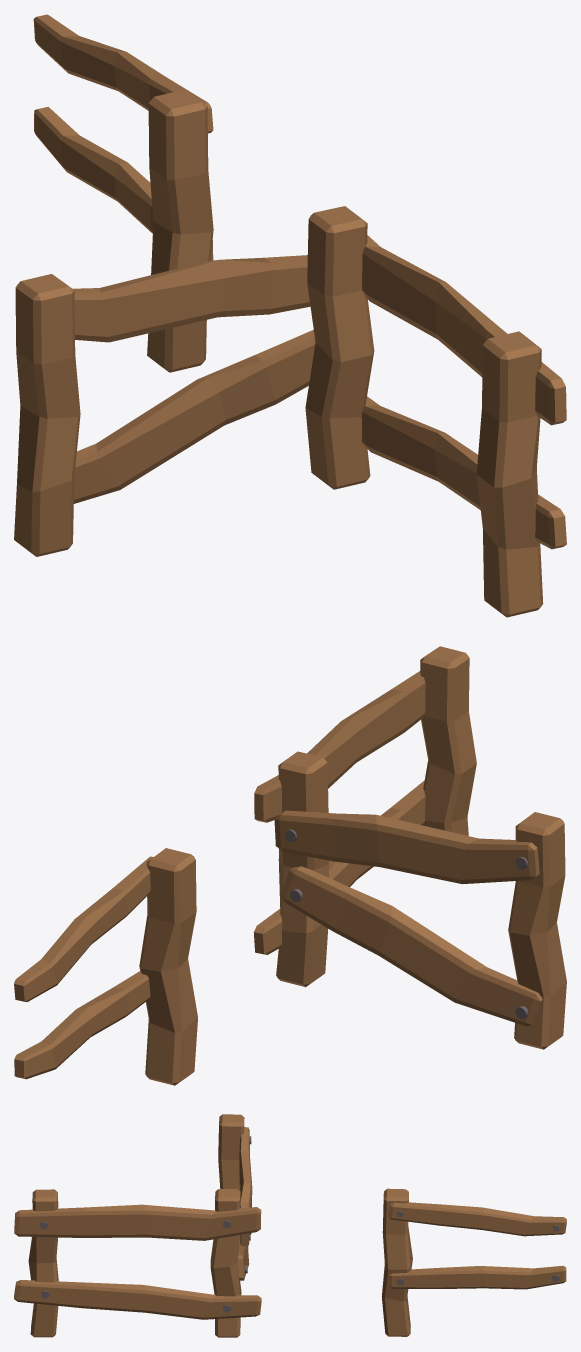
File: FenceGate.fbx
3 renders of one model, top to bottom at view 1: azimuth 30°, elevation 25°; view 2: azimuth 150°, elevation 25°; view 3: azimuth 270°, elevation 25°, orthographic. The views are drawn at different scales.
Visible parts, largest first — view 1: Cylinder.007; view 2: Cylinder.007; view 3: Cylinder.007.
Part boxes in pixels (x1,y1,x2,y2): Cylinder.007: [14, 14, 566, 617]; Cylinder.007: [14, 646, 566, 1085]; Cylinder.007: [14, 1114, 566, 1337].
Size of the model in its own units: 355 by 260 by 929.
